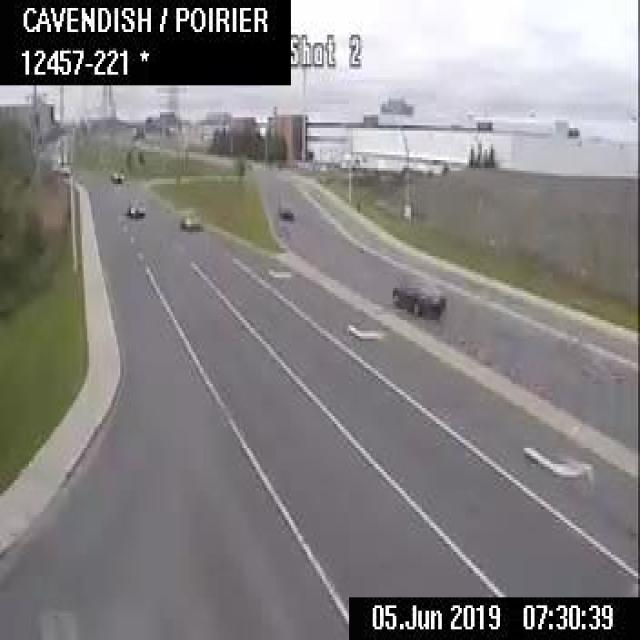vehicle: (389, 272, 444, 317), (54, 136, 74, 171), (176, 211, 204, 229), (125, 200, 146, 216), (108, 165, 124, 182), (277, 202, 292, 218)
